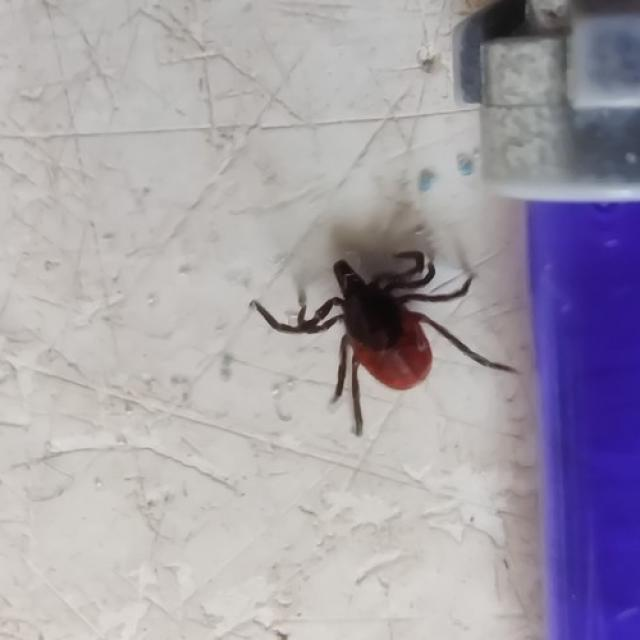Ixodes Ricinus-F: (251, 251, 520, 436)
